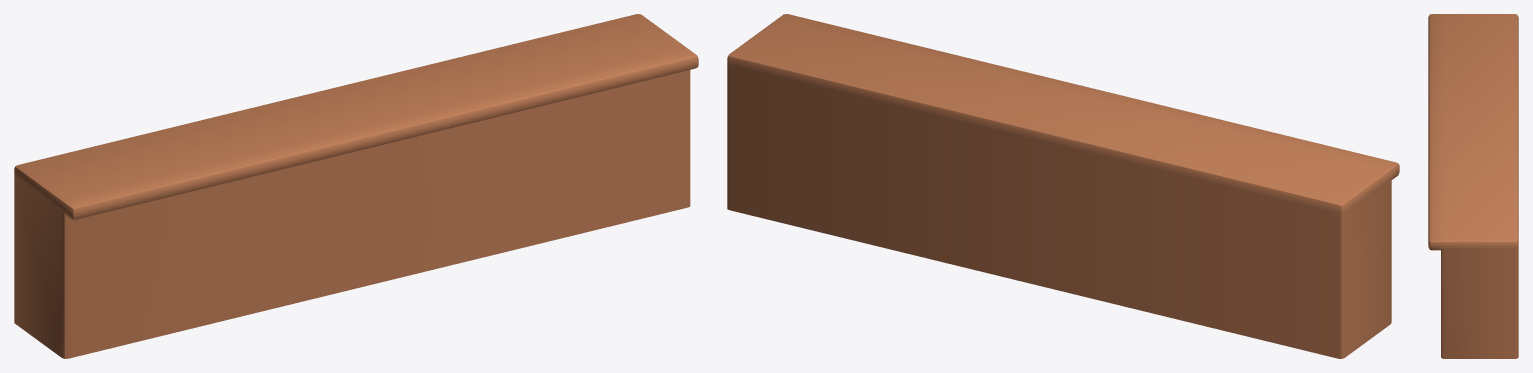
The model's file is FruitSensei_Desk.fbx.
3 renders of one model, left to right at view 1: azimuth 30°, elevation 25°; view 2: azimuth 150°, elevation 25°; view 3: azimuth 270°, elevation 25°, orthographic. The views are drawn at different scales.
Visible parts, largest first — view 1: Cube; view 2: Cube; view 3: Cube.
Boxes of the visible parts, x1,y1,x2,y2 form: Cube: [14, 14, 698, 358]; Cube: [727, 14, 1399, 358]; Cube: [1428, 14, 1518, 358].
Size of the model in its own units: 735 by 176 by 122.
